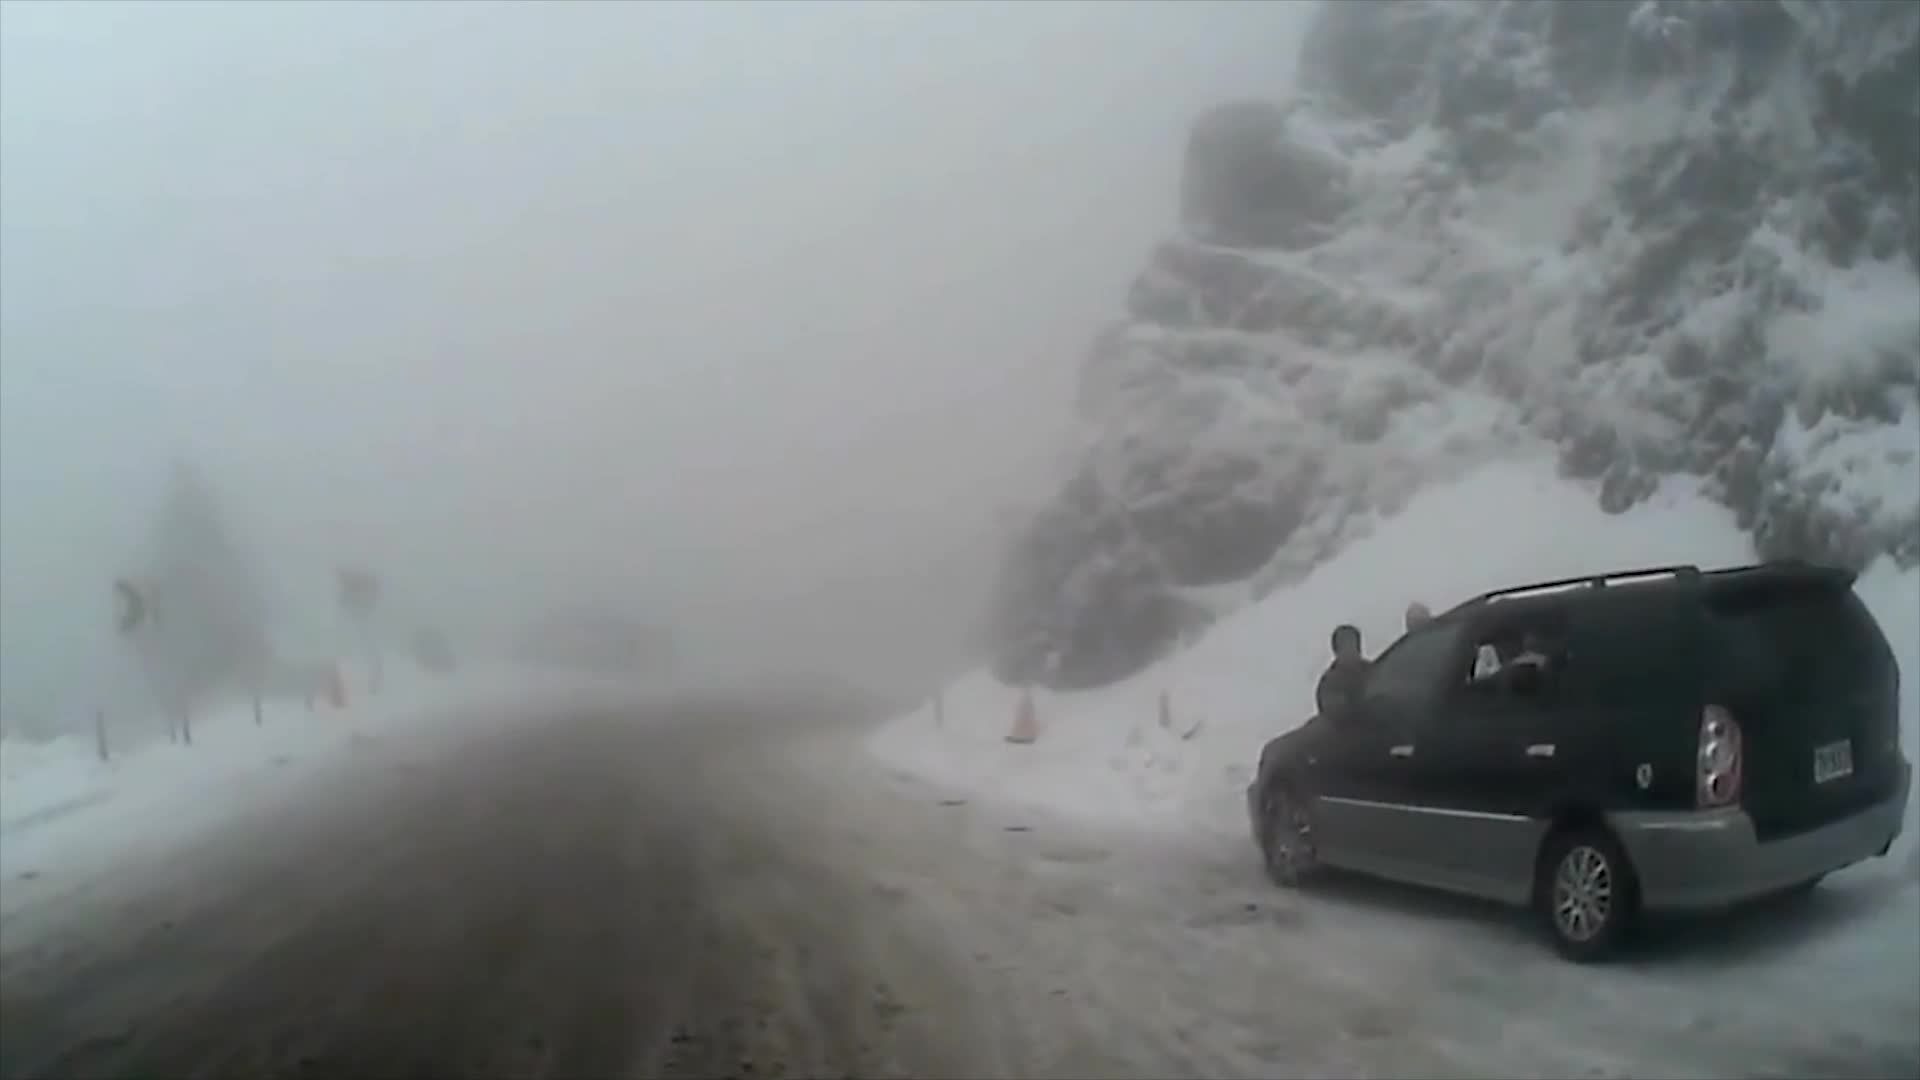pedestrian: (1311, 620, 1378, 850)
vehicle: (1246, 558, 1910, 963)
